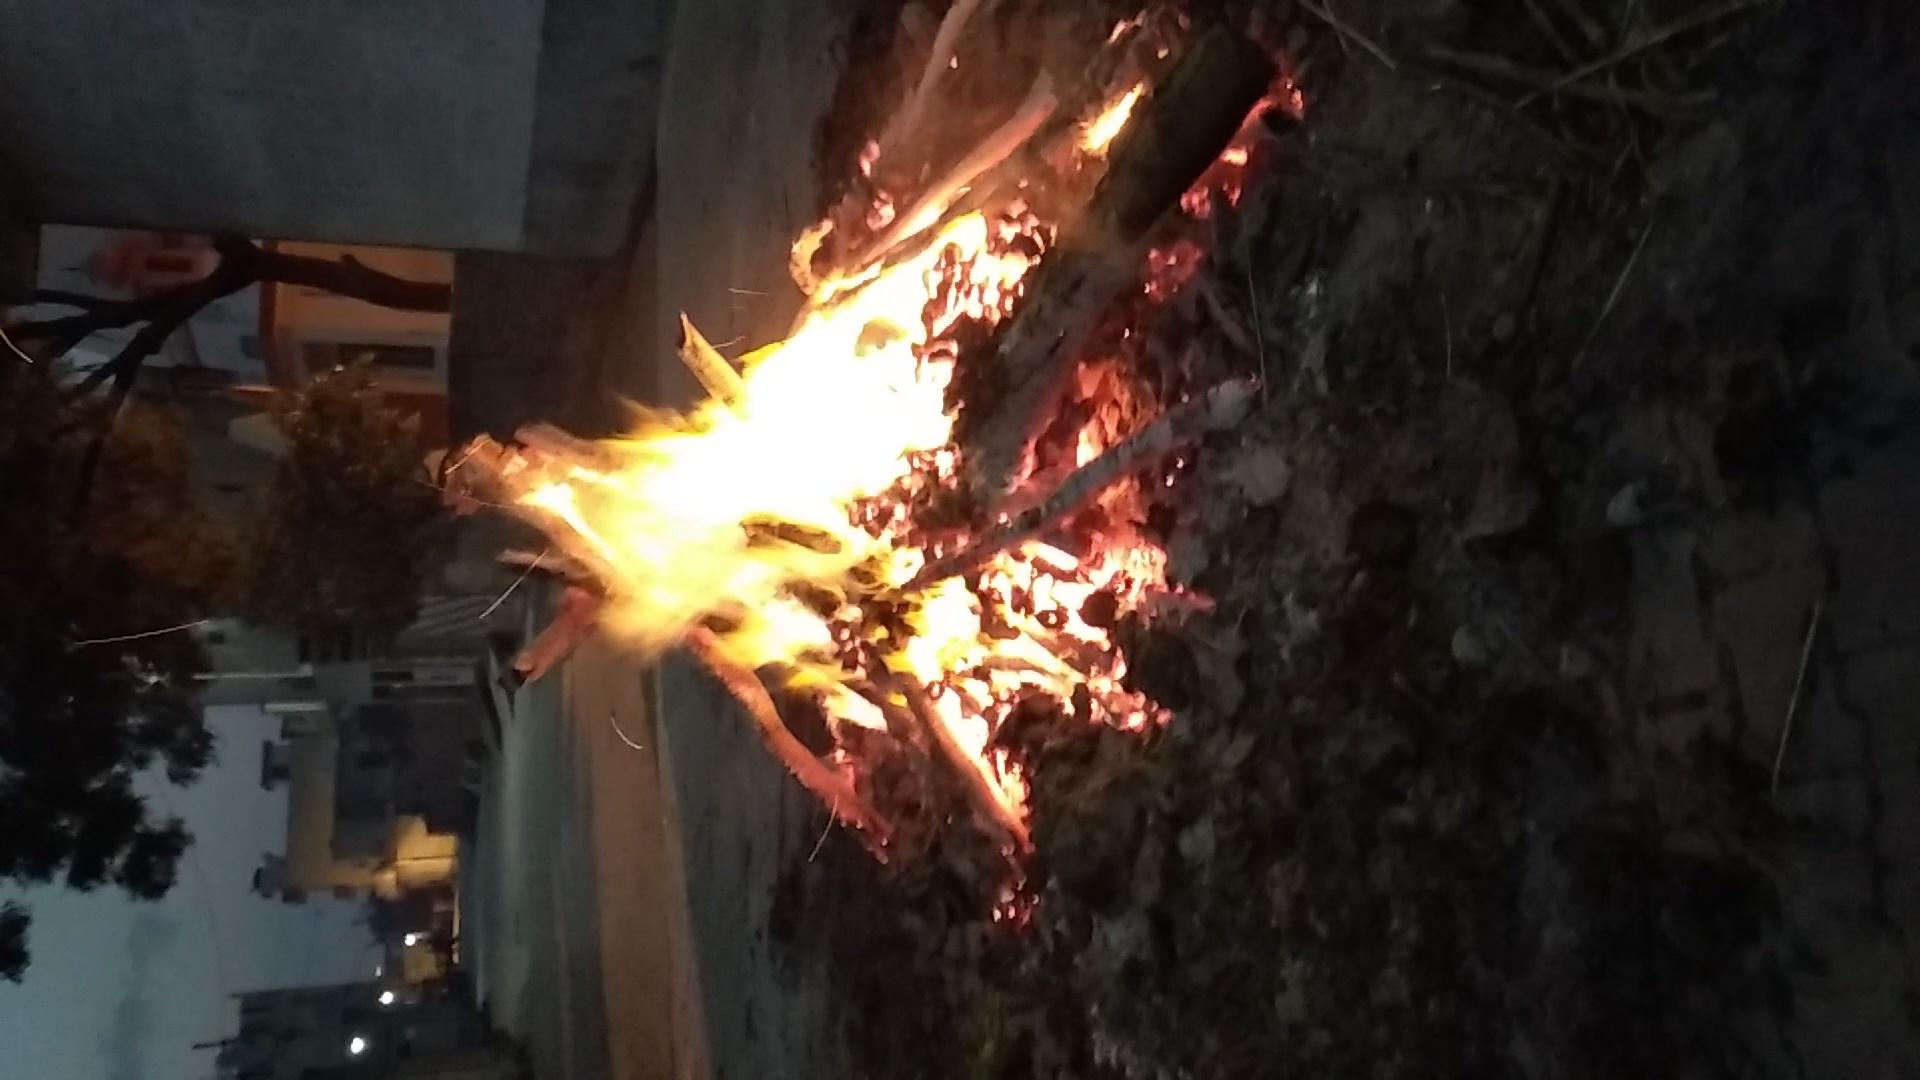fire: (553, 227, 1139, 742)
